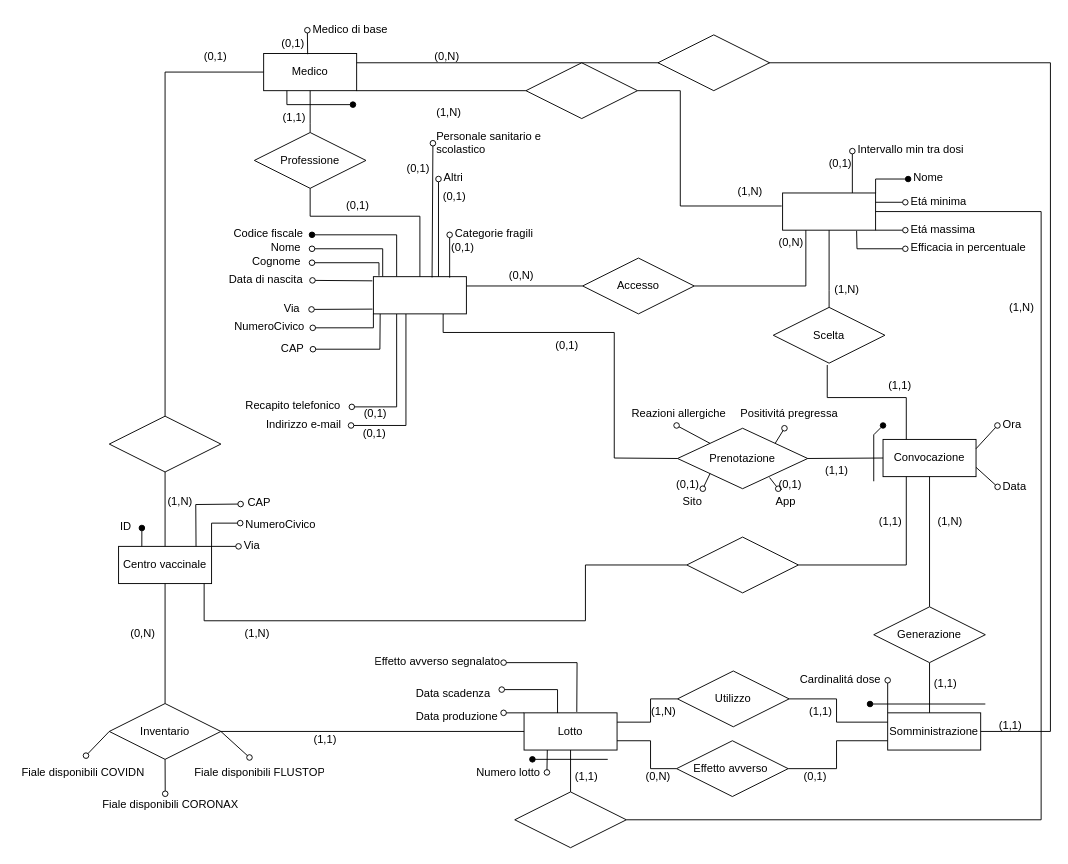
Image size: 1068x864. Some labels were removed from this diagram. The shapes that lost their labels are listed below. From the top down, each one's centre as x and y in pixels, then its label:
At pixel 713 62: "Esecuzione".
At pixel 581 90: "Abilitazione".
At pixel 829 211: "Tipo di vaccino".
At pixel 419 295: "Cittadino".
At pixel 164 443: "Afferenza".
At pixel 742 564: "Presso".
At pixel 570 819: "Appartenenza".
